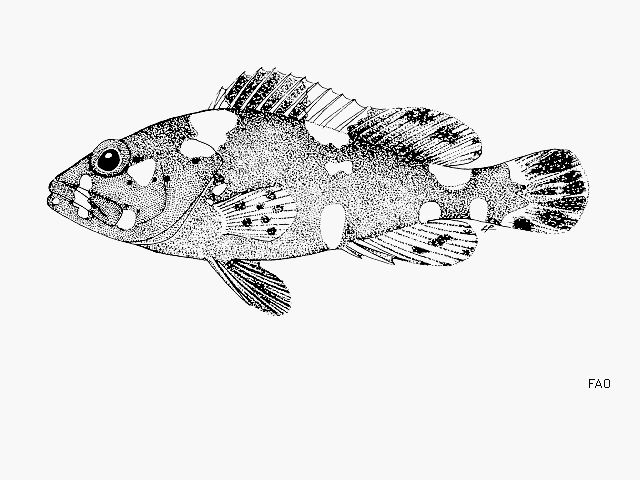fish: (46, 67, 590, 317)
